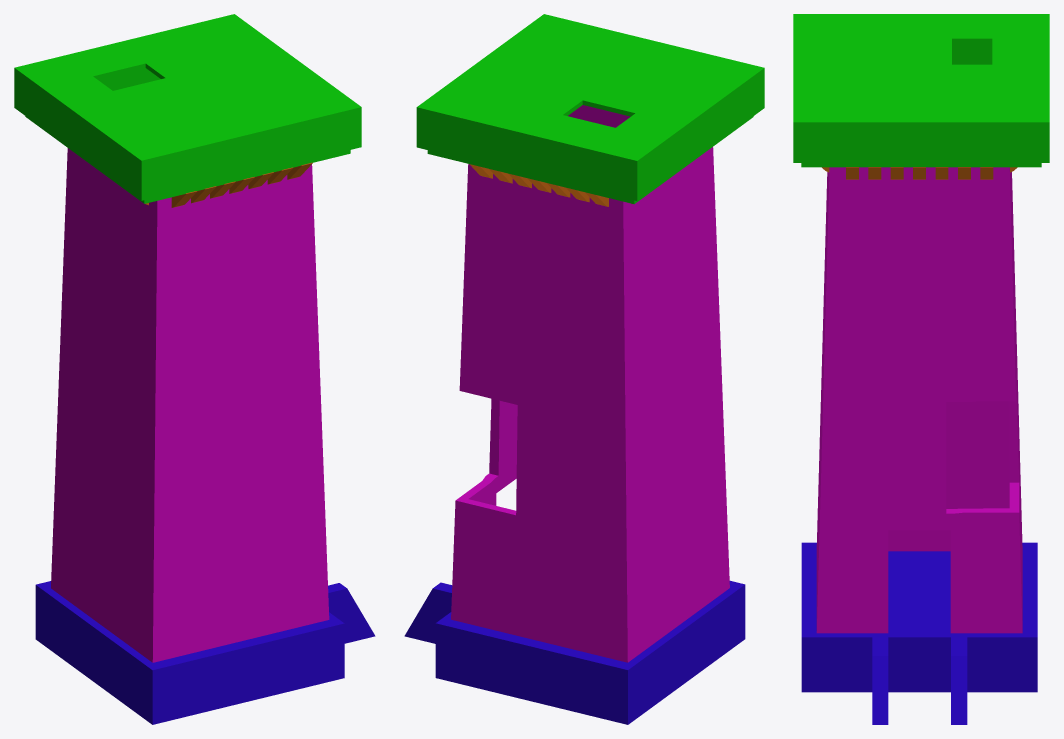
File: Watchtower1 1.fbx
The picture shows the model from 3 angles, left to right: view 1: azimuth 30°, elevation 25°; view 2: azimuth 150°, elevation 25°; view 3: azimuth 270°, elevation 25°; orthographic projection.
Parts seen in each view (by area): view 1: Body, Top, Base, Holders; view 2: Body, Top, Base, Holders; view 3: Body, Top, Base, Holders.
Boxes of the visible parts, x1,y1,x2,y2 form: Body: (51,148,329,662); Top: (14,14,361,203); Base: (35,581,375,724); Holders: (145,162,312,207); Body: (451,105,729,662); Top: (416,14,764,204); Base: (404,580,745,724); Holders: (469,164,608,206); Body: (816,167,1022,633); Top: (793,14,1049,167); Base: (801,542,1037,724); Holders: (822,167,1017,179).
Size of the model in its own units: 1425 by 2844 by 1148.
